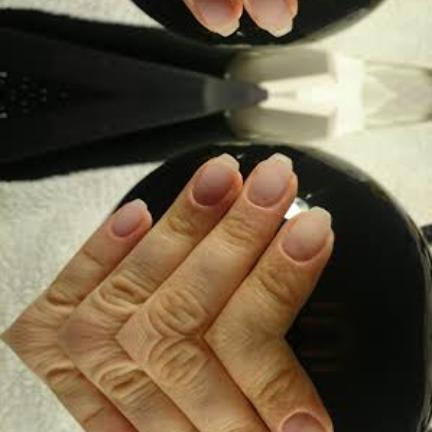Nail: (283, 206, 332, 260), (192, 153, 240, 205), (249, 151, 293, 206), (193, 0, 240, 35), (249, 0, 293, 37), (111, 198, 148, 236), (283, 413, 327, 432)
